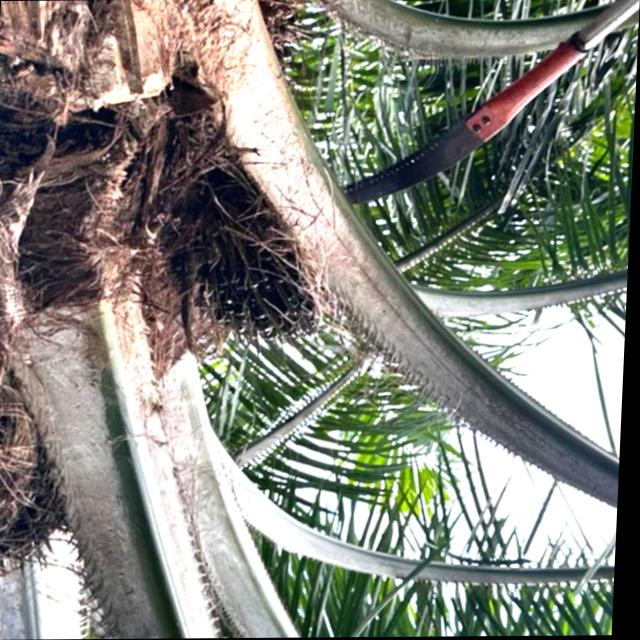unripe: (156, 160, 344, 365)
